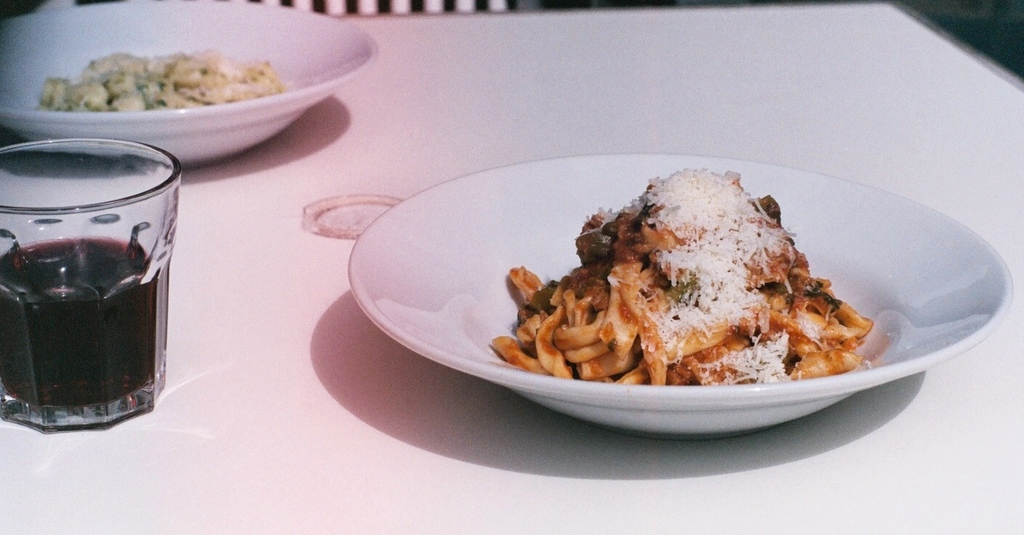pasta: (504, 193, 872, 402)
